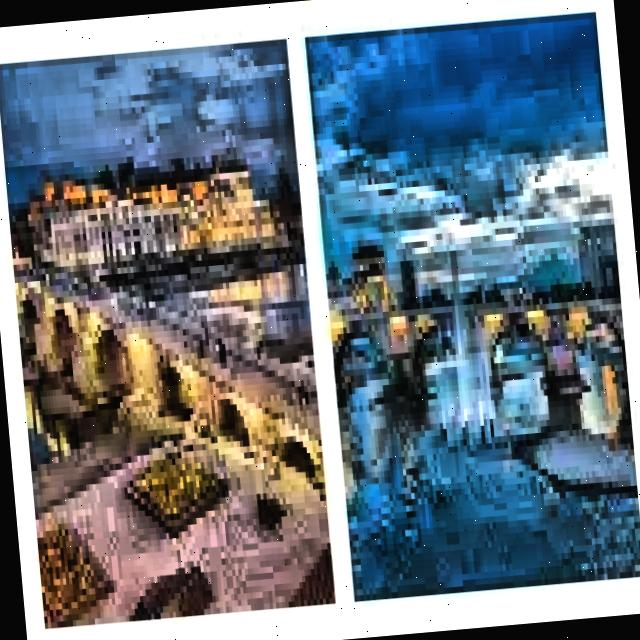stone bridge: (13, 243, 323, 501), (324, 274, 640, 427)
